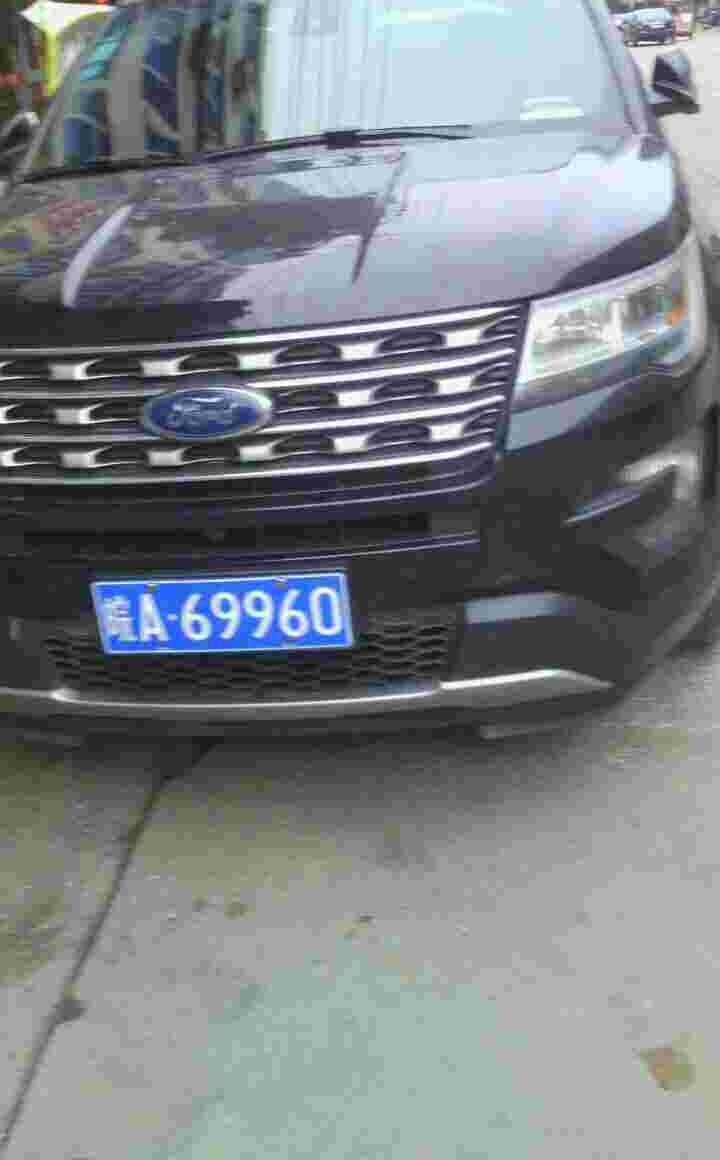plate: (93, 571, 103, 660)
